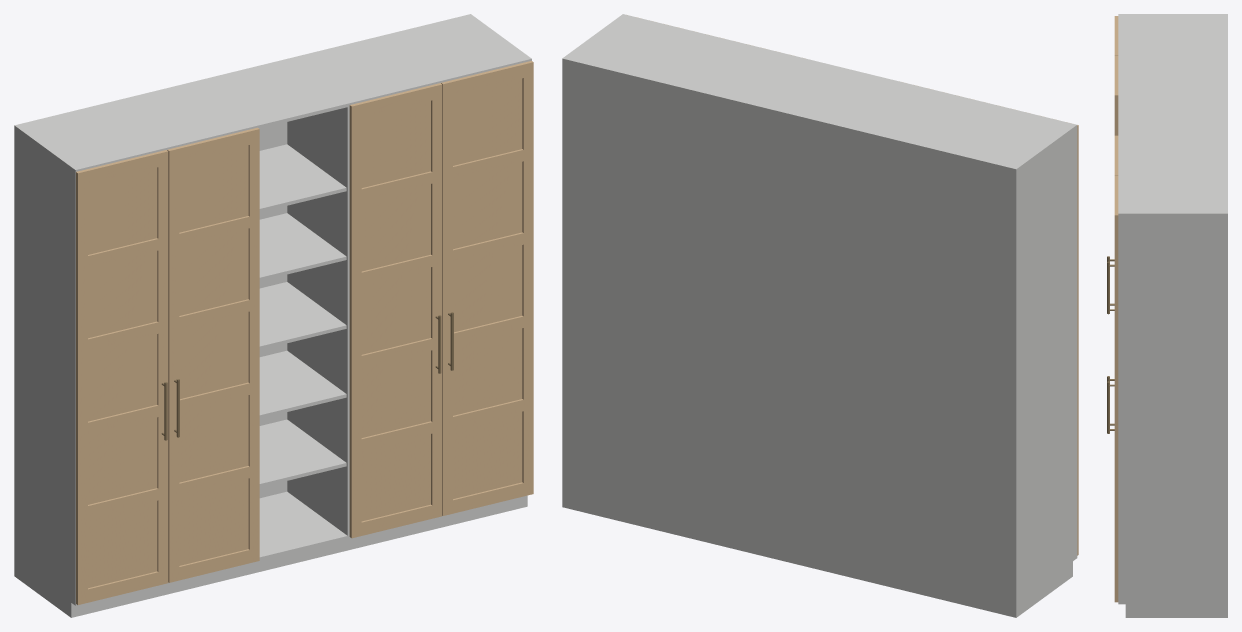
The model's file is Armari.glb.
3 renders of one model, left to right at view 1: azimuth 30°, elevation 25°; view 2: azimuth 150°, elevation 25°; view 3: azimuth 270°, elevation 25°, orthographic. The views are drawn at different scales.
Visible parts, largest first — view 1: Armari_Blanc, Porta_Roble_3, Porta_Roble_1, Porta_Roble_4, Porta_Roble_2, Pomo; view 2: Armari_Blanc, Porta_Roble_1; view 3: Armari_Blanc, Porta_Roble_4, Pomo, Porta_Roble_2, Porta_Roble_3, Porta_Roble_1.
Part boxes in pixels (left/top/right/bottom): Armari_Blanc: left=14, top=14, right=531, bottom=617; Porta_Roble_3: left=349, top=83, right=442, bottom=538; Porta_Roble_1: left=76, top=150, right=168, bottom=604; Porta_Roble_4: left=441, top=61, right=533, bottom=515; Porta_Roble_2: left=167, top=127, right=259, bottom=582; Pomo: left=161, top=312, right=453, bottom=440; Armari_Blanc: left=562, top=14, right=1077, bottom=617; Porta_Roble_1: left=1077, top=125, right=1078, bottom=555; Armari_Blanc: left=1118, top=14, right=1227, bottom=617; Porta_Roble_4: left=1114, top=175, right=1118, bottom=602; Pomo: left=1107, top=256, right=1114, bottom=433; Porta_Roble_2: left=1114, top=55, right=1118, bottom=135; Porta_Roble_3: left=1114, top=135, right=1118, bottom=175; Porta_Roble_1: left=1114, top=16, right=1118, bottom=55.
Size of the model in its own units: 2.5 by 2.36 by 0.6385.
